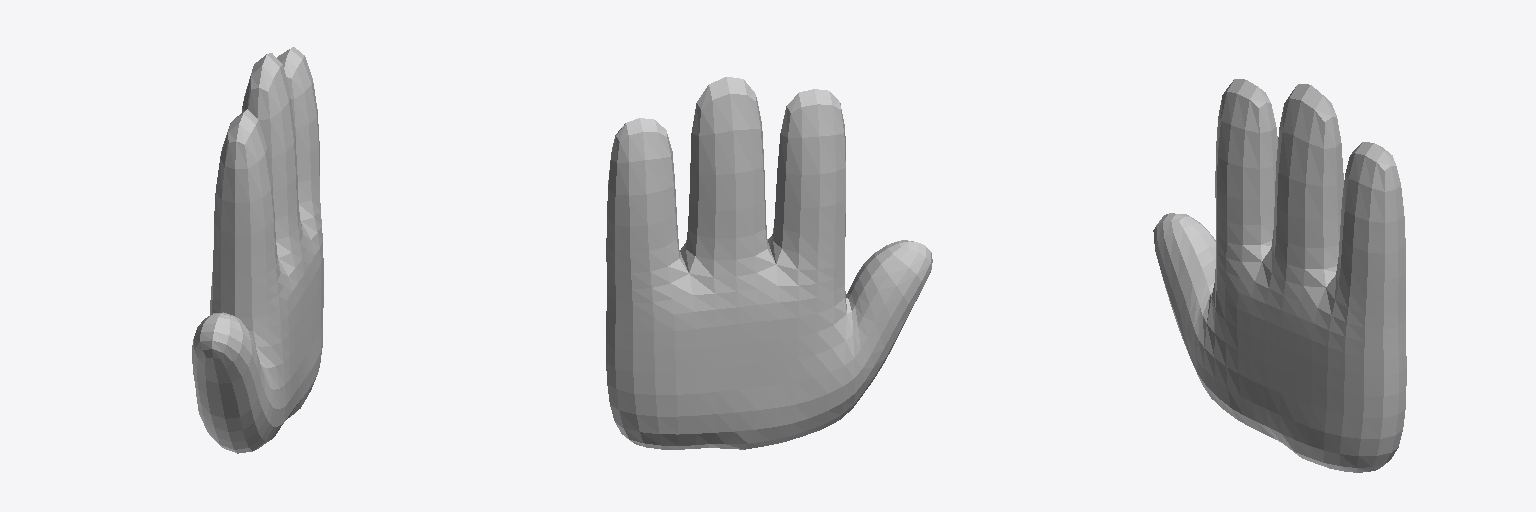
File: 2hands_climb_R.obj
3 renders of one model, left to right at view 1: azimuth 30°, elevation 25°; view 2: azimuth 150°, elevation 25°; view 3: azimuth 270°, elevation 25°, orthographic.
Parts seen in each view (by area): view 1: hands_climb_R_Cube_Cube.001; view 2: hands_climb_R_Cube_Cube.001; view 3: hands_climb_R_Cube_Cube.001.
Boxes of the visible parts, x1,y1,x2,y2 form: hands_climb_R_Cube_Cube.001: [192, 47, 323, 453]; hands_climb_R_Cube_Cube.001: [606, 77, 932, 449]; hands_climb_R_Cube_Cube.001: [1153, 79, 1406, 472].
Bounding box in the file's own units: 1.73 × 2.79 × 1.74.